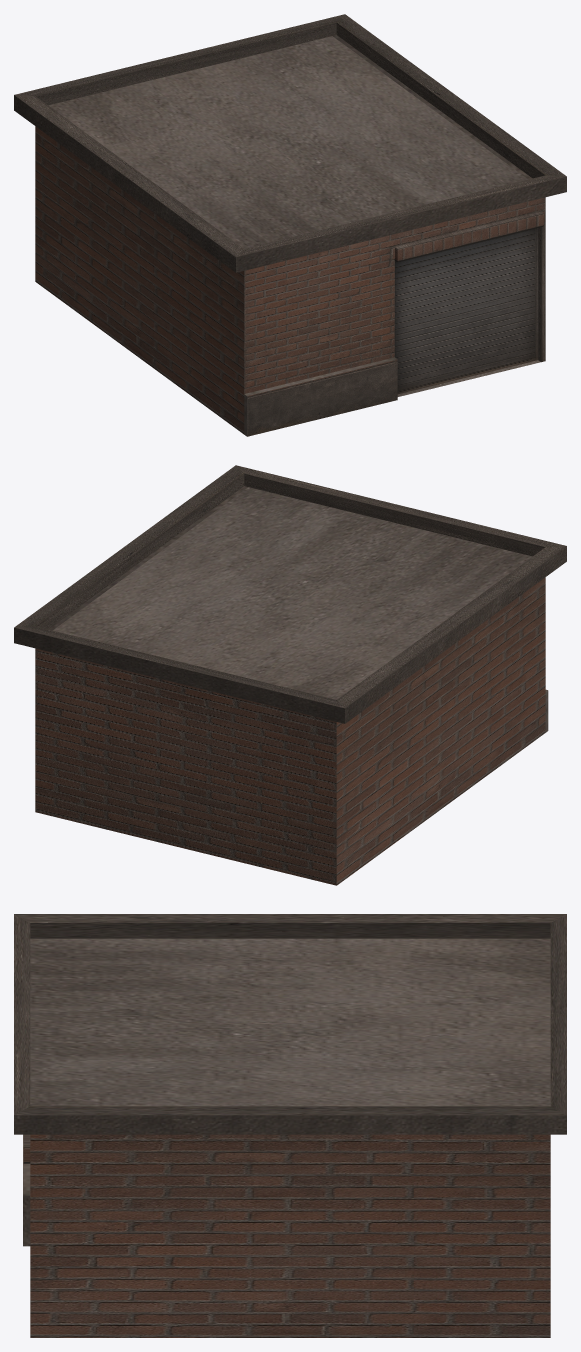
The model's file is lowpoly_urban_garage.glb.
3 renders of one model, top to bottom at view 1: azimuth 30°, elevation 25°; view 2: azimuth 150°, elevation 25°; view 3: azimuth 270°, elevation 25°, orthographic. The views are drawn at different scales.
Parts seen in each view (by area): view 1: Garage; view 2: Garage; view 3: Garage.
Boxes of the visible parts, left/top/right/bottom form: Garage: left=14, top=14, right=566, bottom=436; Garage: left=14, top=465, right=566, bottom=885; Garage: left=14, top=914, right=566, bottom=1337.
Size of the model in its own units: 5.5 by 2.95 by 6.38.
1 material, 1 textured.
